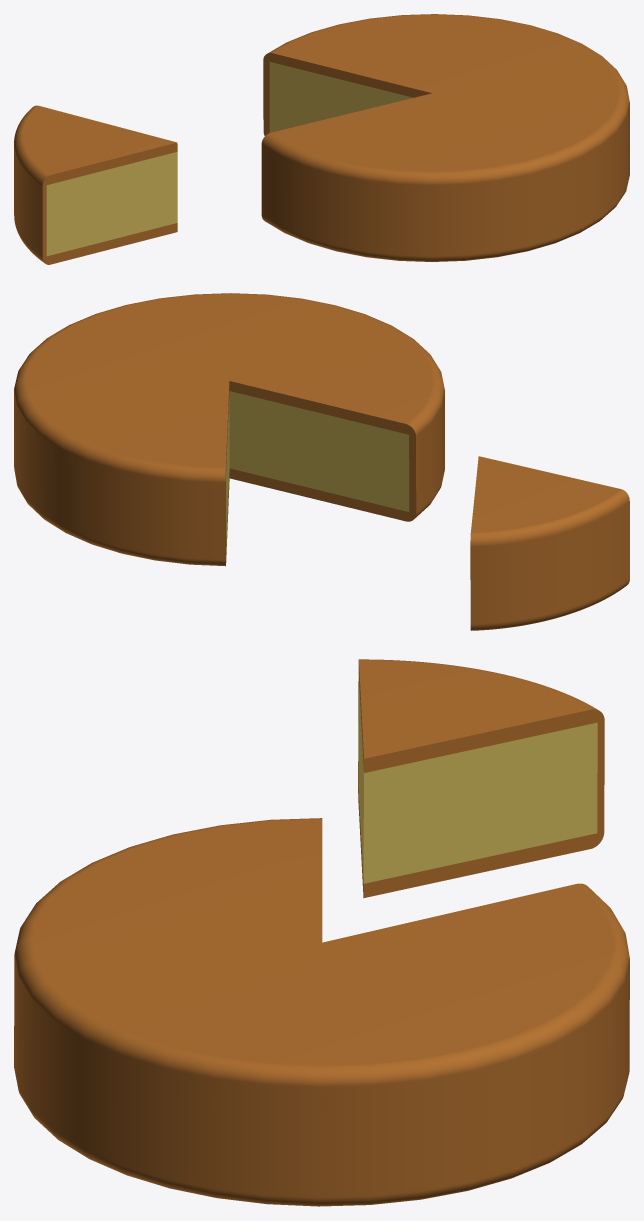
File: cheese_wheel.fbx
3 renders of one model, top to bottom at view 1: azimuth 30°, elevation 25°; view 2: azimuth 150°, elevation 25°; view 3: azimuth 270°, elevation 25°, orthographic. The views are drawn at different scales.
Parts seen in each view (by area): view 1: Cheddar cheese wheel, Cheddar cheese wheel block; view 2: Cheddar cheese wheel, Cheddar cheese wheel block; view 3: Cheddar cheese wheel, Cheddar cheese wheel block.
Boxes of the visible parts, left/top/right/bottom form: Cheddar cheese wheel: left=261, top=14, right=629, bottom=261; Cheddar cheese wheel block: left=14, top=105, right=177, bottom=264; Cheddar cheese wheel: left=14, top=293, right=444, bottom=566; Cheddar cheese wheel block: left=470, top=456, right=629, bottom=630; Cheddar cheese wheel: left=14, top=818, right=629, bottom=1206; Cheddar cheese wheel block: left=358, top=659, right=604, bottom=898.
Bounding box in the file's own units: 1.61 × 0.2536 × 1.
